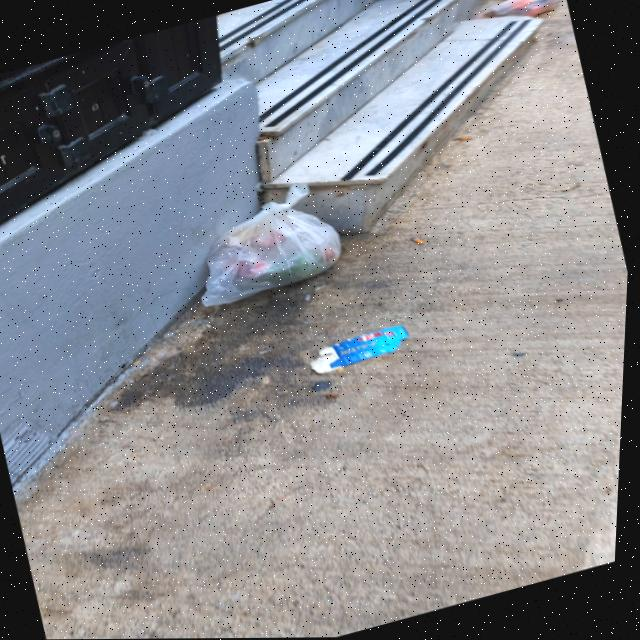Organic Waste -White Bag-: (185, 187, 353, 313)
